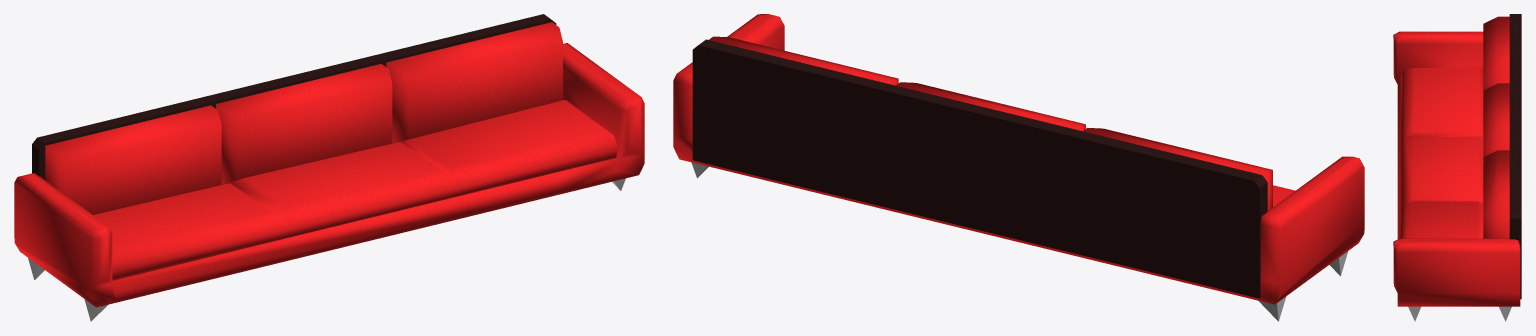
Rendered from Long_Sofa_B.FBX.
3 renders of one model, left to right at view 1: azimuth 30°, elevation 25°; view 2: azimuth 150°, elevation 25°; view 3: azimuth 270°, elevation 25°, orthographic. The views are drawn at different scales.
Parts seen in each view (by area): view 1: Long_Sofa; view 2: Long_Sofa; view 3: Long_Sofa.
Boxes of the visible parts, box(x1,y1,x2,y2) form: Long_Sofa: box(14, 14, 644, 321); Long_Sofa: box(673, 14, 1364, 321); Long_Sofa: box(1393, 14, 1521, 321).
Size of the model in its own units: 685 by 157 by 171.
